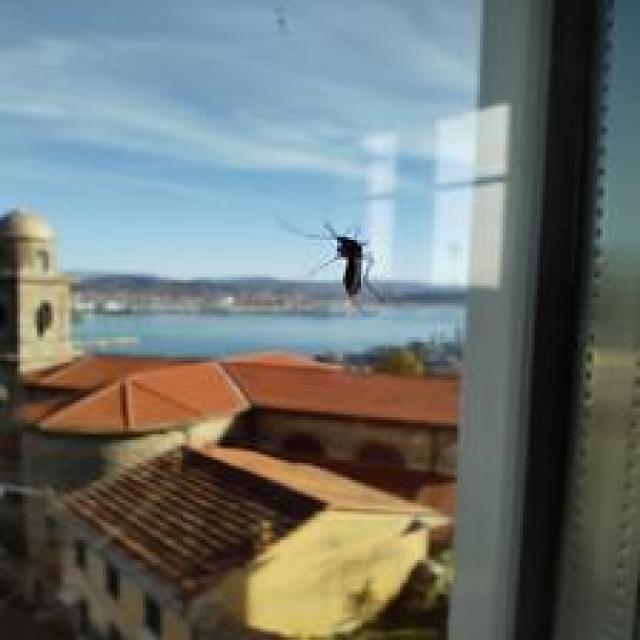Culex: (276, 215, 387, 312)
